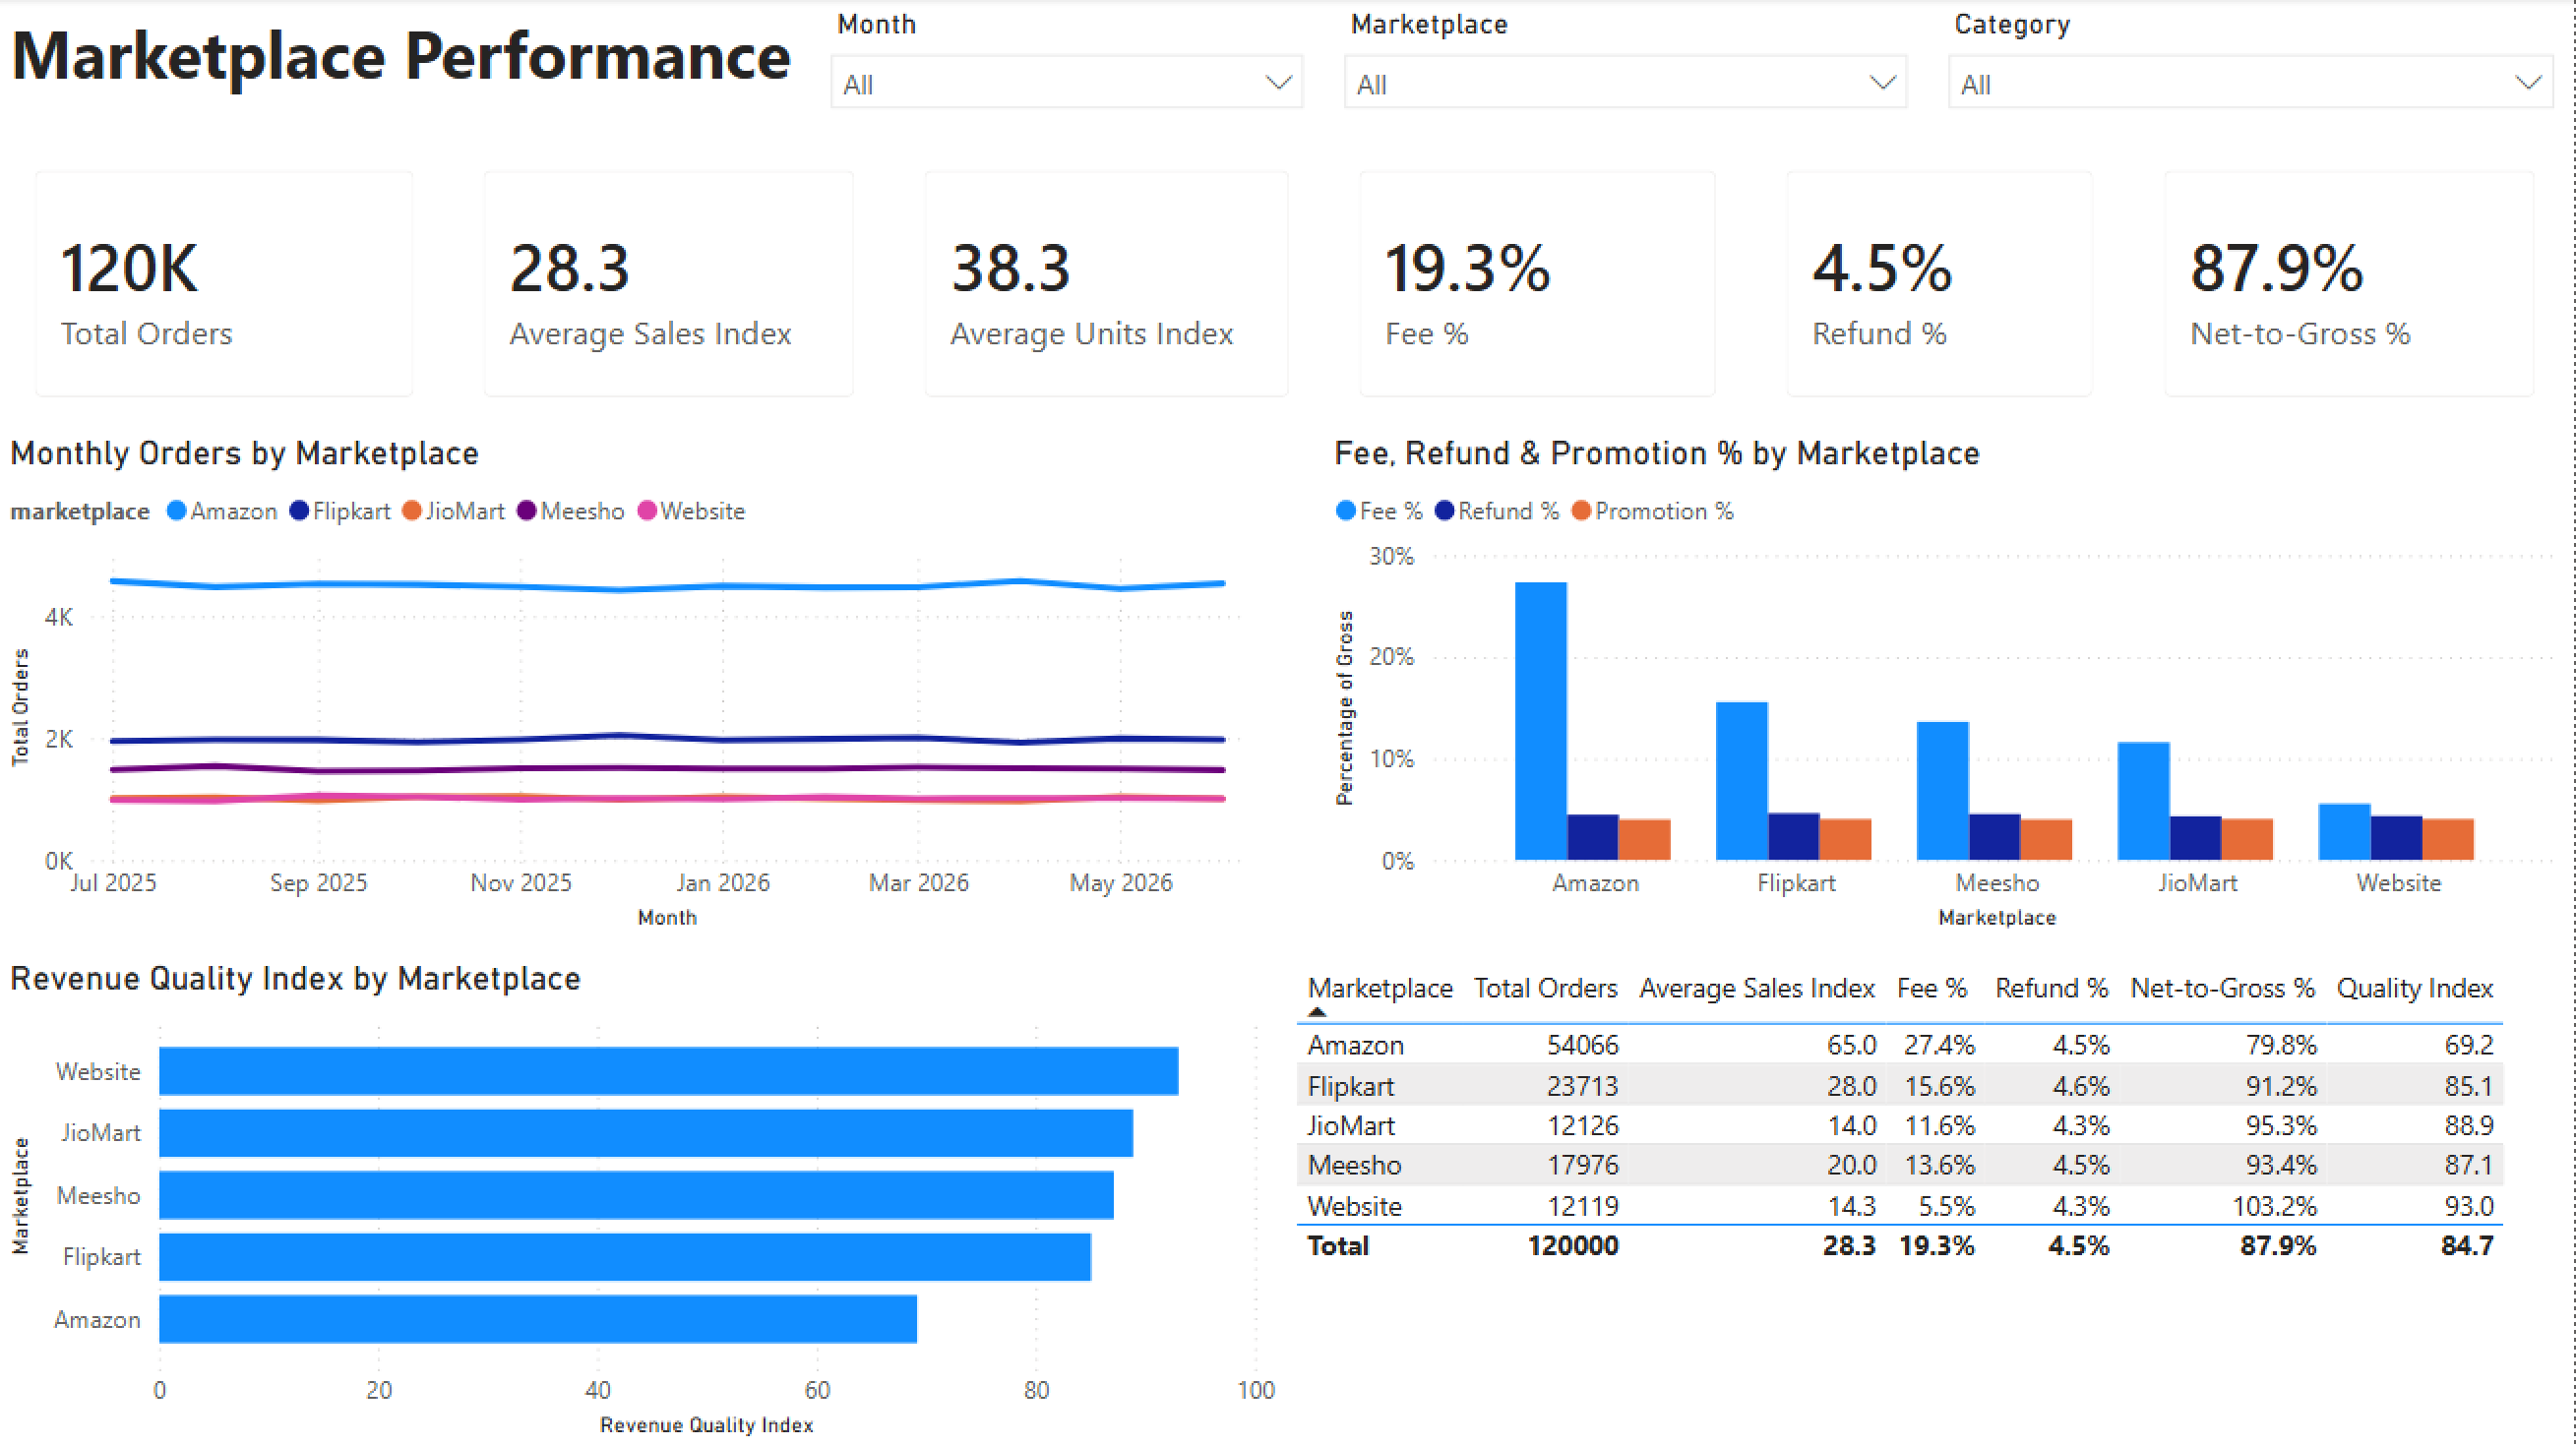

This screenshot's page, from the dashboard's own definition file:
{"tool":"powerbi","page":{"name":"Marketplace Performance","canvas":[1280,720],"ordinal":1},"visuals":[{"type":"textbox","box":[0,0,403,68.5],"z":0},{"type":"slicer","fields":{"Values":["DimMonth.month_start"]},"box":[403,0,255.3,68.5],"z":1000},{"type":"slicer","fields":{"Values":["DimMarketplace.marketplace"]},"box":[658.4,0,300.3,68.5],"z":2000},{"type":"slicer","fields":{"Values":["DimProduct.category_group"]},"box":[958.7,0,320.9,68.5],"z":3000},{"type":"cardVisual","fields":{"Data":["Measures (2).Total Orders"]},"box":[0,68.5,223,147.7],"z":4000},{"type":"cardVisual","fields":{"Data":["Measures (2).Average Sales Index"]},"box":[223,68.5,219.1,147.7],"z":5000},{"type":"cardVisual","fields":{"Data":["Measures (2).Average Units Index"]},"box":[442.2,68.5,216.2,147.7],"z":6000},{"type":"cardVisual","fields":{"Data":["Measures (2).Fee %"]},"box":[658.4,68.5,212.3,147.7],"z":7000},{"type":"cardVisual","fields":{"Data":["Measures (2).Refund %"]},"box":[870.7,68.5,187.8,147.7],"z":8000},{"type":"cardVisual","fields":{"Data":["Measures (2).Net-to-Gross %"]},"box":[1058.5,68.5,219.1,147.7],"z":9000},{"type":"lineChart","title":"Monthly Orders by Marketplace","fields":{"Category":["DimMonth.month_start"],"Series":["DimMarketplace.marketplace"],"Y":["Measures (2).Total Orders"]},"box":[0,216.2,638.8,251.4],"z":10000},{"type":"clusteredBarChart","title":"Revenue Quality Index by Marketplace","fields":{"Category":["DimMarketplace.marketplace"],"Y":["Measures (2).Revenue Quality Score"]},"box":[0,477.4,638.8,242.6],"z":11000},{"type":"tableEx","title":"Action Priority Mix","fields":{"Values":["DimMarketplace.marketplace","Measures (2).Total Orders","Measures (2).Average Sales Index","Measures (2).Fee %","Measures (2).Refund %","Measures (2).Net-to-Gross %","Measures (2).Revenue Quality Score"]},"box":[638.8,477.4,640.8,242.6],"z":12000},{"type":"clusteredColumnChart","title":"Fee, Refund & Promotion % by Marketplace","fields":{"Category":["DimMarketplace.marketplace"],"Y":["Measures (2).Fee %","Measures (2).Refund %","Measures (2).Promotion %"]},"box":[658.4,216.2,619.2,251.4],"z":13000}]}

Visuals, with their boxes in screenshot pixels (x1, y1, x2, y2), scaled from the page's 1280x720 canvas onto the 2576x1446 screenshot:
textbox: box=[0, 0, 811, 138]
slicer - DimMonth.month_start: box=[811, 0, 1324, 138]
slicer - DimMarketplace.marketplace: box=[1325, 0, 1930, 138]
slicer - DimProduct.category_group: box=[1930, 0, 2575, 138]
cardVisual - Measures (2).Total Orders: box=[0, 138, 449, 434]
cardVisual - Measures (2).Average Sales Index: box=[449, 138, 889, 434]
cardVisual - Measures (2).Average Units Index: box=[889, 138, 1325, 434]
cardVisual - Measures (2).Fee %: box=[1325, 138, 1752, 434]
cardVisual - Measures (2).Refund %: box=[1752, 138, 2130, 434]
cardVisual - Measures (2).Net-to-Gross %: box=[2130, 138, 2571, 434]
"Monthly Orders by Marketplace" lineChart: box=[0, 434, 1286, 939]
"Revenue Quality Index by Marketplace" clusteredBarChart: box=[0, 959, 1286, 1445]
"Action Priority Mix" tableEx: box=[1286, 959, 2575, 1445]
"Fee, Refund & Promotion % by Marketplace" clusteredColumnChart: box=[1325, 434, 2571, 939]
